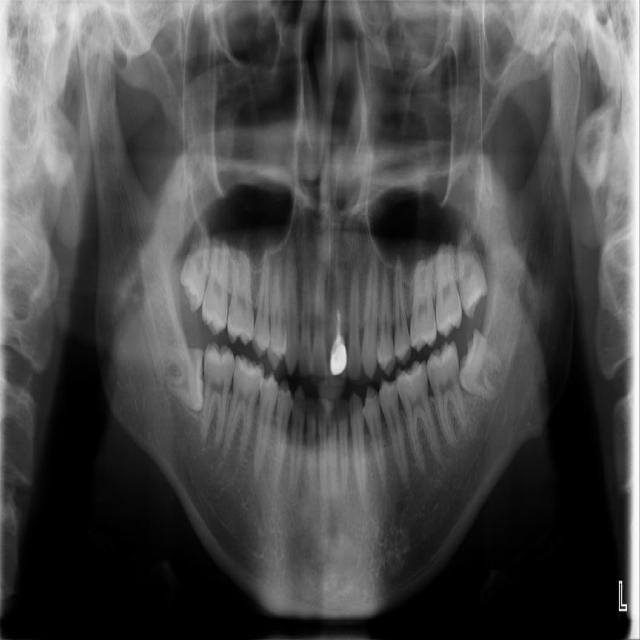3M ESPE Implant: (175, 204, 217, 314)
52: (326, 334, 347, 378)
73: (562, 535, 574, 561)
BioHorizons Implant: (436, 235, 462, 340)
BioLife Implant: (449, 217, 492, 320)
Biomet 3i Implant: (450, 327, 520, 405)
Blue Sky Bio Implant: (423, 340, 469, 447)
Caries: (201, 228, 231, 337)
Implant: (201, 341, 236, 447)
Keystone Dental Implant: (163, 347, 205, 412)
